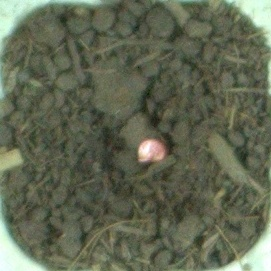chilli seed: (136, 137, 168, 164)
